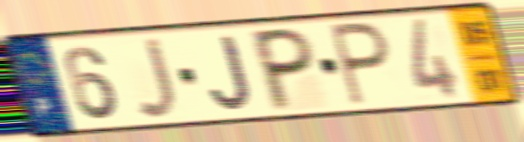4: (409, 15, 462, 102)
6: (62, 44, 121, 121)
J: (134, 34, 180, 121), (207, 33, 256, 113)
P: (327, 19, 393, 109), (252, 25, 316, 115)
